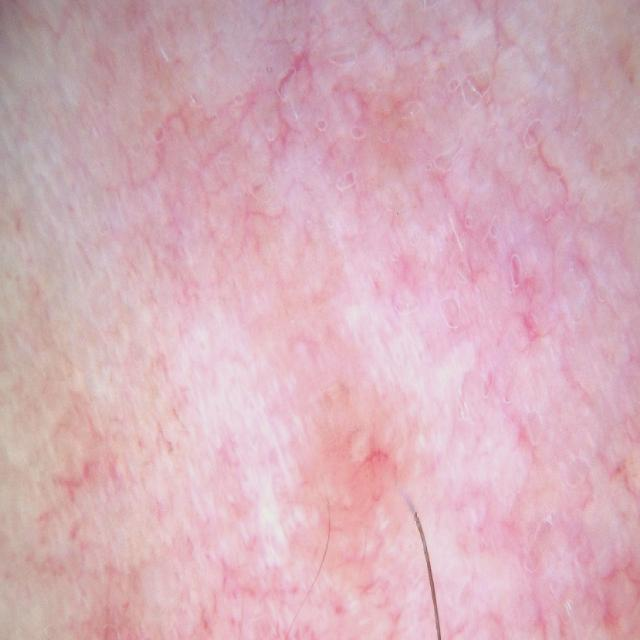Melanoma: (91, 146, 523, 566)
